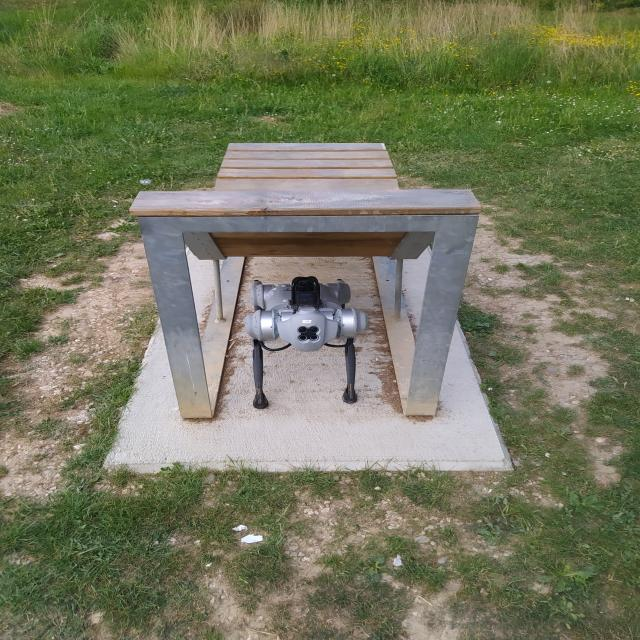unitree-go1-robot: (231, 267, 377, 425)
